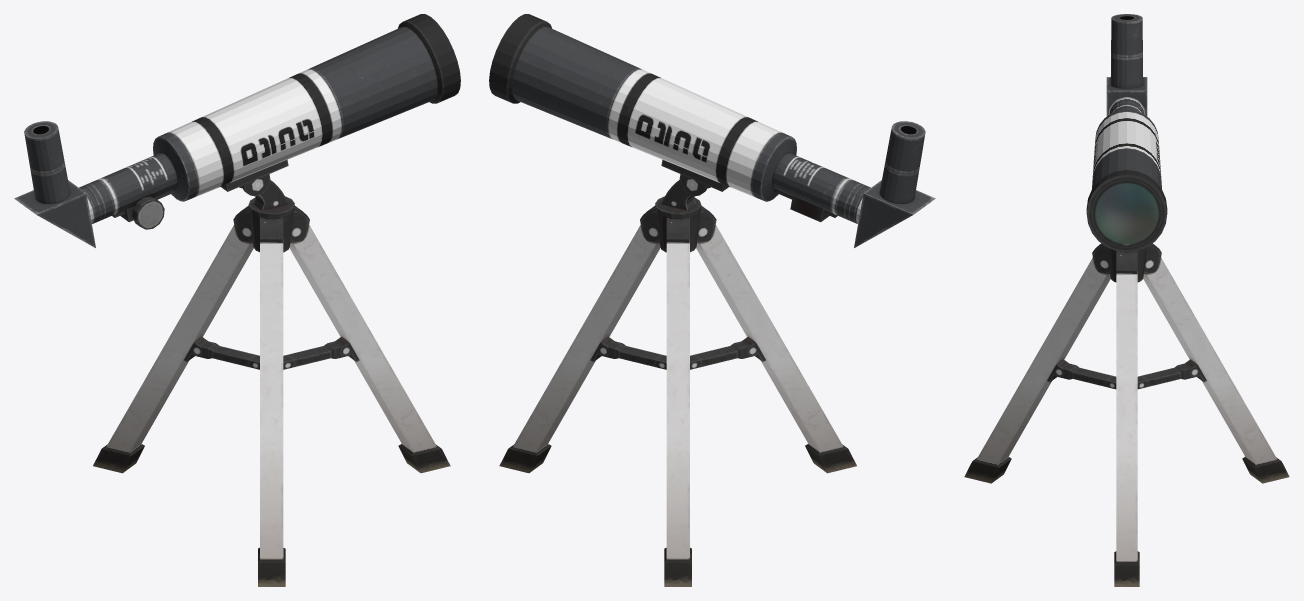
File: P_Telescope_001_S1_M01.obj
3 renders of one model, left to right at view 1: azimuth 30°, elevation 25°; view 2: azimuth 150°, elevation 25°; view 3: azimuth 270°, elevation 25°, orthographic. The views are drawn at different scales.
Size of the model in its own units: 0.9771 by 0.9956 by 0.7223.
1 material, 1 textured.
